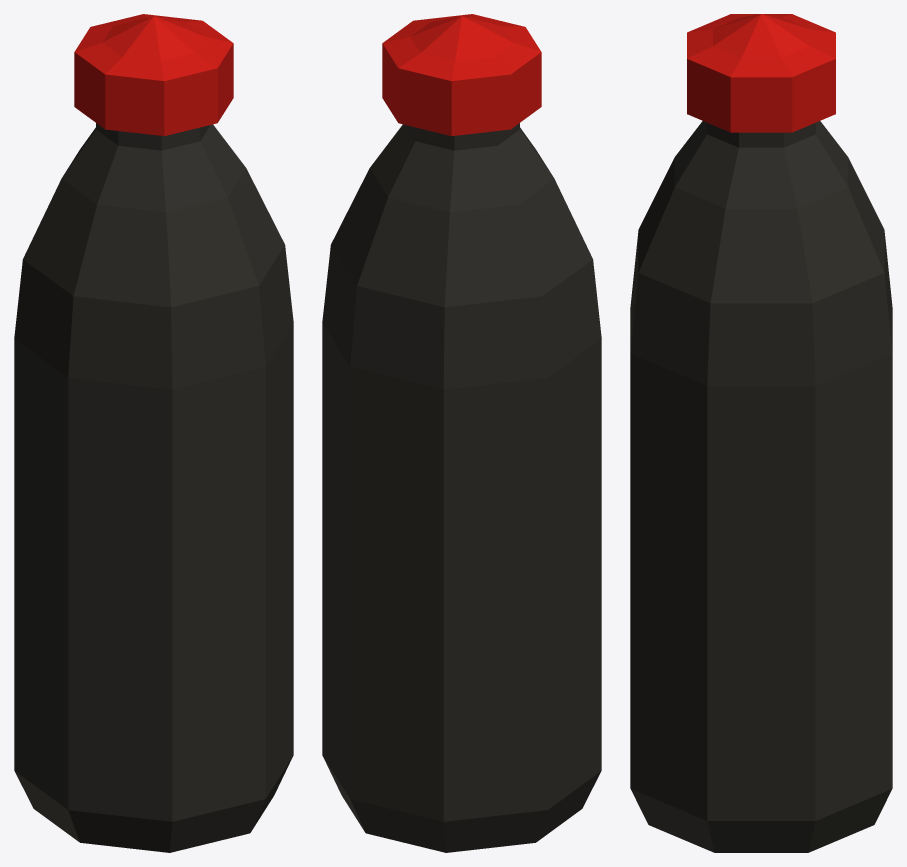
The model's file is SM_Cook_SauceBottle_Hoisin_01.obj.
3 renders of one model, left to right at view 1: azimuth 30°, elevation 25°; view 2: azimuth 150°, elevation 25°; view 3: azimuth 270°, elevation 25°, orthographic.
Visible parts, largest first — view 1: SM_Cook_SauceBottle_Hoisin_01; view 2: SM_Cook_SauceBottle_Hoisin_01; view 3: SM_Cook_SauceBottle_Hoisin_01.
Boxes of the visible parts, x1,y1,x2,y2 form: SM_Cook_SauceBottle_Hoisin_01: (14, 14, 293, 852); SM_Cook_SauceBottle_Hoisin_01: (322, 14, 601, 852); SM_Cook_SauceBottle_Hoisin_01: (630, 14, 892, 852).
Size of the model in its own units: 0.0601 by 0.2 by 0.0601.
Materials: 1 (1 with a texture image).
